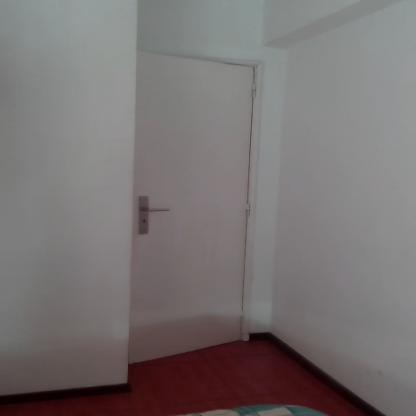door: (137, 51, 240, 364)
hinged: (250, 80, 259, 100), (245, 201, 250, 218), (240, 309, 246, 323)
lever: (143, 205, 171, 213)
